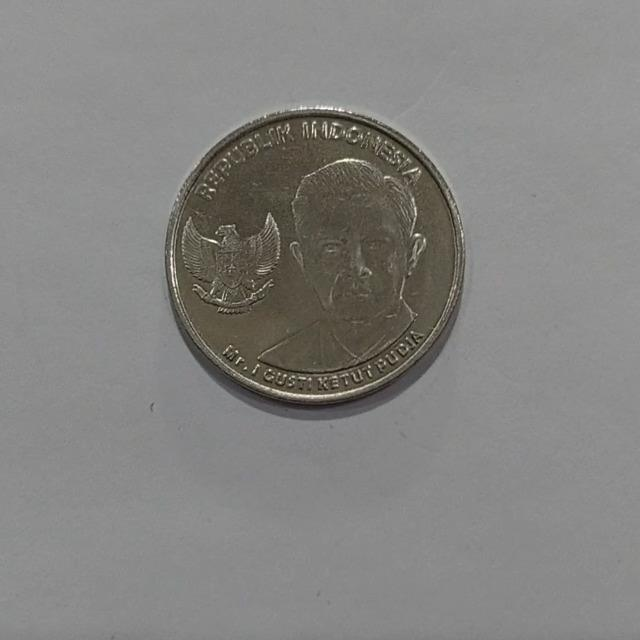Rp100: (163, 104, 467, 407), (251, 154, 430, 375)
